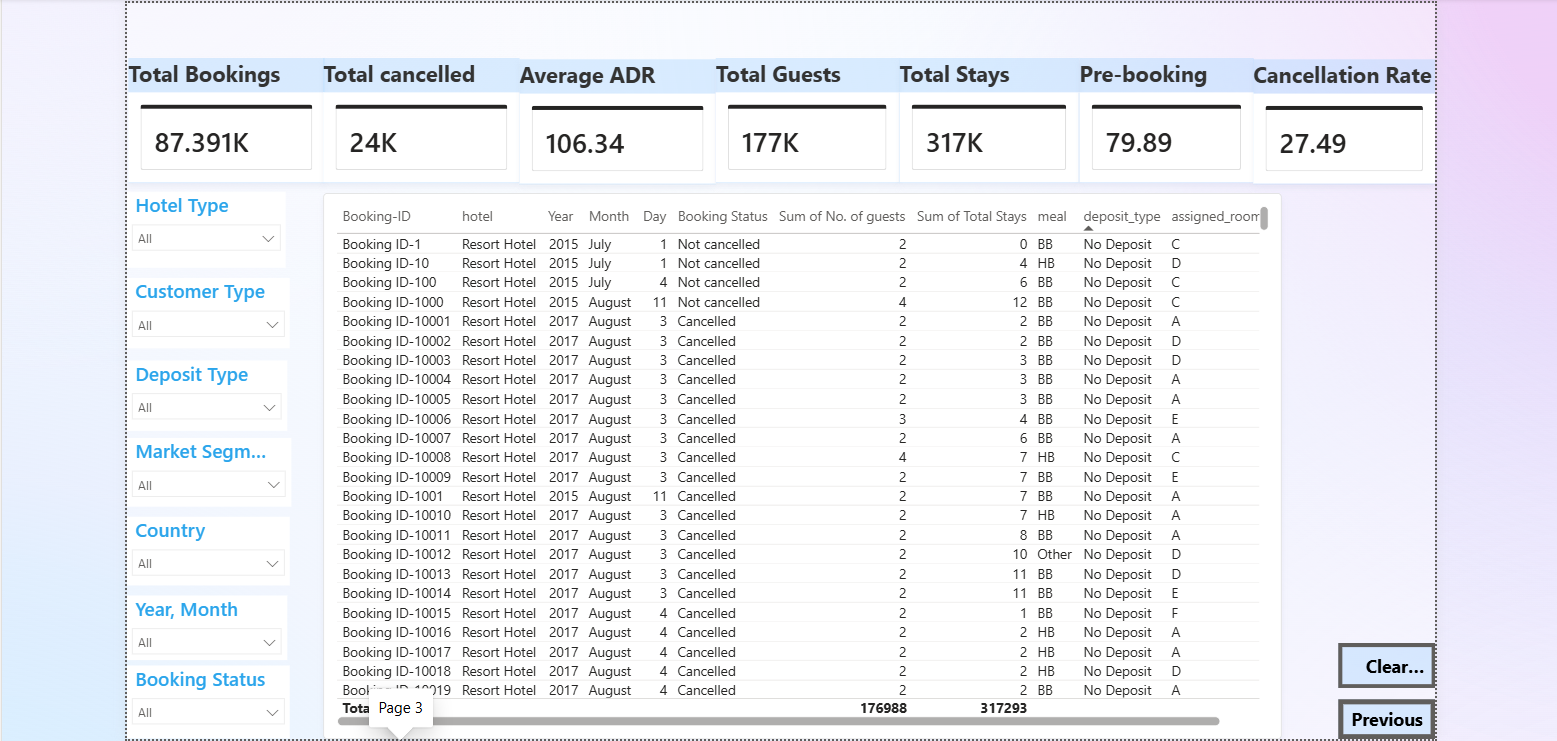

What the dashboard file says about the page in this screenshot:
{"tool":"powerbi","page":{"name":"Page 3","canvas":[1280,720],"ordinal":2},"visuals":[{"type":"slicer","fields":{"Values":["Hotel Bookings (2).hotel"]},"box":[0,185.2,155.1,74.1],"z":0},{"type":"slicer","fields":{"Values":["Hotel Bookings (2).customer_type"]},"box":[0,269,159.2,68.6],"z":1000},{"type":"slicer","fields":{"Values":["Hotel Bookings (2).deposit_type"]},"box":[0,349.9,156.4,68.6],"z":2000},{"type":"slicer","fields":{"Values":["Hotel Bookings (2).market_segment"]},"box":[0,425.4,160.5,67.2],"z":3000},{"type":"slicer","fields":{"Values":["Hotel Bookings (2).country"]},"box":[0,502.2,159.2,67.2],"z":4000},{"type":"slicer","fields":{"Values":["Hotel Bookings (2).Arrival Date.Variation.Date Hierarchy.Year","Hotel Bookings (2).Arrival Date.Variation.Date Hierarchy.Month"]},"box":[0,579.1,156.4,63.1],"z":5000},{"type":"slicer","fields":{"Values":["Hotel Bookings (2).Booking Status"]},"box":[0,648.6,159.2,71.4],"z":6000},{"type":"cardVisual","title":"Total Bookings","fields":{"Data":["CountNonNull(Hotel Bookings (2).Booking-ID)"]},"box":[1.4,53.5,192.1,122.1],"z":7000},{"type":"cardVisual","title":"Total cancelled","fields":{"Data":["Sum(Hotel Bookings (2).is_canceled)"]},"box":[192.1,53.5,192.1,122.1],"z":8000},{"type":"cardVisual","title":"Average ADR","fields":{"Data":["Avg(Hotel Bookings (2).adr)"]},"box":[384.2,54.9,192.1,122.1],"z":9000},{"type":"cardVisual","title":"Total Guests","fields":{"Data":["Sum(Hotel Bookings (2).No. of guests)"]},"box":[576.3,53.5,179.8,122.1],"z":10000},{"type":"cardVisual","title":"Total Stays","fields":{"Data":["Sum(Hotel Bookings (2).Total Stays)"]},"box":[756.1,53.5,175.6,122.1],"z":11000},{"type":"cardVisual","title":"Pre-booking","fields":{"Data":["Avg(Hotel Bookings (2).lead_time)"]},"box":[931.7,53.5,170.2,122.1],"z":12000},{"type":"cardVisual","title":"Cancellation Rate","fields":{"Data":["Hotel Bookings (2).Cancellation Rate"]},"box":[1101.6,54.9,178.4,122.1],"z":13000},{"type":"tableEx","fields":{"Values":["Hotel Bookings (2).Booking-ID","Hotel Bookings (2).hotel","Hotel Bookings (2).Arrival Date.Variation.Date Hierarchy.Year","Hotel Bookings (2).Arrival Date.Variation.Date Hierarchy.Month","Hotel Bookings (2).Arrival Date.Variation.Date Hierarchy.Day","Hotel Bookings (2).Booking Status","Sum(Hotel Bookings (2).No. of guests)","Sum(Hotel Bookings (2).Total Stays)","Hotel Bookings (2).meal","Hotel Bookings (2).deposit_type","Hotel Bookings (2).assigned_room_type"]},"box":[192.3,185.5,937.9,534.5],"z":14000},{"type":"actionButton","box":[1184.7,626.4,95.3,44.3],"z":15000},{"type":"actionButton","box":[1184.7,680.9,95.3,39.1],"z":16000}]}

Visuals, with their boxes on the page's 1280x720 design canvas (x1, y1, x2, y2). These are canvas units, not pixel positions in the 1557x741 screenshot, which may show the page scaled, cropped or inside an application window:
slicer - Hotel Bookings (2).hotel: crop(0, 185, 155, 259)
slicer - Hotel Bookings (2).customer_type: crop(0, 269, 159, 338)
slicer - Hotel Bookings (2).deposit_type: crop(0, 350, 156, 418)
slicer - Hotel Bookings (2).market_segment: crop(0, 425, 160, 493)
slicer - Hotel Bookings (2).country: crop(0, 502, 159, 569)
slicer - Hotel Bookings (2).Arrival Date.Variation.Date Hierarchy.Year x Hotel Bookings (2).Arrival Date.Variation.Date Hierarchy.Month: crop(0, 579, 156, 642)
slicer - Hotel Bookings (2).Booking Status: crop(0, 649, 159, 720)
"Total Bookings" cardVisual: crop(1, 54, 194, 176)
"Total cancelled" cardVisual: crop(192, 54, 384, 176)
"Average ADR" cardVisual: crop(384, 55, 576, 177)
"Total Guests" cardVisual: crop(576, 54, 756, 176)
"Total Stays" cardVisual: crop(756, 54, 932, 176)
"Pre-booking" cardVisual: crop(932, 54, 1102, 176)
"Cancellation Rate" cardVisual: crop(1102, 55, 1280, 177)
tableEx - Hotel Bookings (2).Booking-ID x Hotel Bookings (2).hotel: crop(192, 186, 1130, 720)
actionButton: crop(1185, 626, 1280, 671)
actionButton: crop(1185, 681, 1280, 720)
